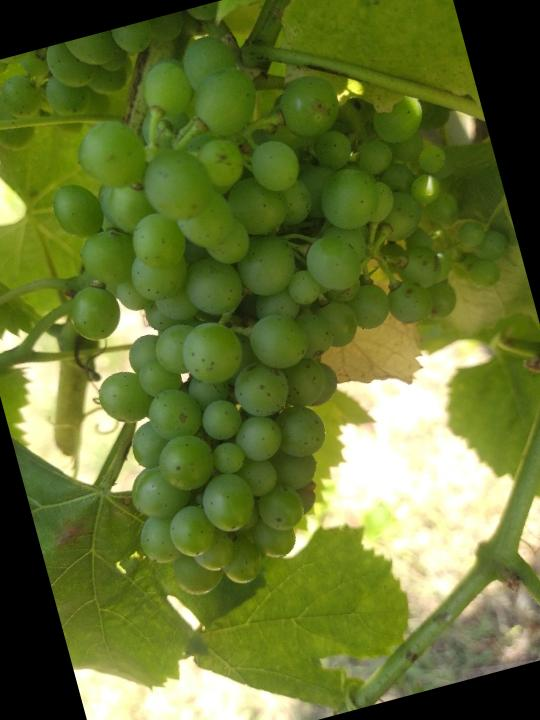grape: (2, 0, 540, 618)
